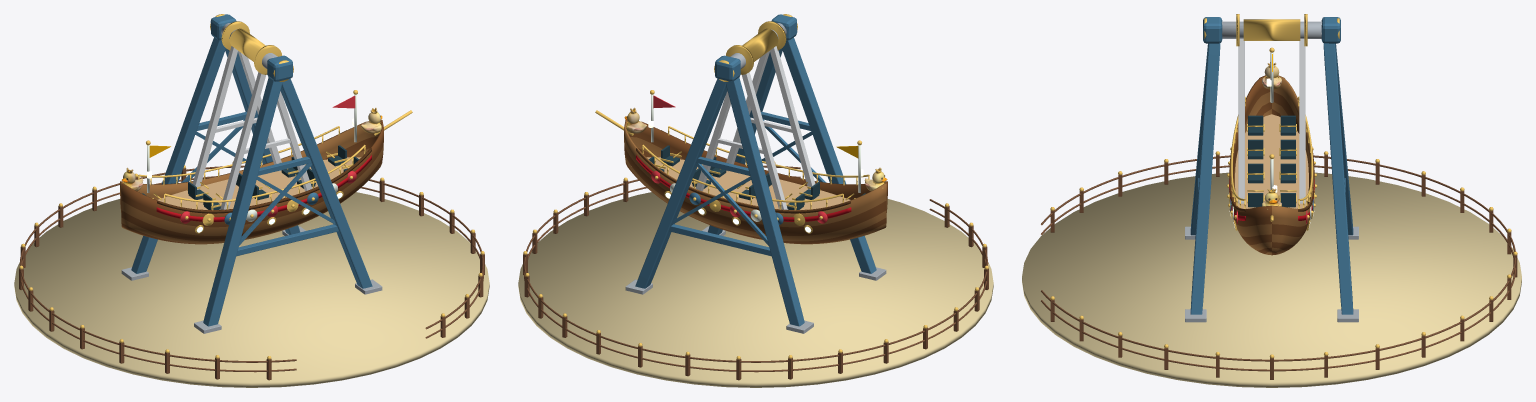
Rendered from duck_voyage.glb.
3 views of the same model, side by side, from view 1: azimuth 30°, elevation 25°; view 2: azimuth 150°, elevation 25°; view 3: azimuth 270°, elevation 25° (orthographic). The views are drawn at different scales.
Visible parts, largest first — view 1: base_toon_e9d8a6, base_toon_457b9d, swing_toon_9c6b3a_toon_7a4a24, base_toon_7f5539, swing_toon_e9ecef, swing_toon_ffd166, swing_toon_deb887, swing_toon_264653, base_toon_adb5bd, swing_toon_5e3a1c, swing_toon_c1121f, base_toon_ffd166 (+2 smaller); view 2: base_toon_e9d8a6, base_toon_457b9d, swing_toon_9c6b3a_toon_7a4a24, base_toon_7f5539, swing_toon_e9ecef, swing_toon_ffd166, swing_toon_deb887, swing_toon_264653, base_toon_adb5bd, swing_toon_5e3a1c, swing_toon_c1121f, base_toon_ffd166 (+2 smaller); view 3: base_toon_e9d8a6, base_toon_457b9d, base_toon_7f5539, swing_toon_9c6b3a_toon_7a4a24, swing_toon_ffd166, swing_toon_deb887, swing_toon_264653, swing_toon_e9ecef, base_toon_adb5bd, base_toon_ffd166.
Part boxes in pixels (x1=…): base_toon_e9d8a6: x1=14, y1=192, x2=489, y2=387; base_toon_457b9d: x1=131, y1=14, x2=372, y2=326; swing_toon_9c6b3a_toon_7a4a24: x1=120, y1=120, x2=383, y2=244; base_toon_7f5539: x1=19, y1=163, x2=484, y2=380; swing_toon_e9ecef: x1=192, y1=46, x2=312, y2=209; swing_toon_ffd166: x1=138, y1=21, x2=412, y2=233; swing_toon_deb887: x1=157, y1=157, x2=361, y2=209; swing_toon_264653: x1=142, y1=145, x2=358, y2=209; base_toon_adb5bd: x1=121, y1=23, x2=382, y2=333; swing_toon_5e3a1c: x1=143, y1=130, x2=371, y2=213; swing_toon_c1121f: x1=156, y1=155, x2=371, y2=221; base_toon_ffd166: x1=19, y1=14, x2=484, y2=359; base_toon_e9d8a6: x1=518, y1=192, x2=993, y2=387; base_toon_457b9d: x1=635, y1=14, x2=876, y2=326; swing_toon_9c6b3a_toon_7a4a24: x1=624, y1=120, x2=887, y2=244; base_toon_7f5539: x1=523, y1=163, x2=988, y2=380; swing_toon_e9ecef: x1=695, y1=46, x2=815, y2=209; swing_toon_ffd166: x1=595, y1=21, x2=869, y2=233; swing_toon_deb887: x1=646, y1=157, x2=850, y2=209; swing_toon_264653: x1=649, y1=145, x2=865, y2=209; base_toon_adb5bd: x1=625, y1=23, x2=886, y2=333; swing_toon_5e3a1c: x1=636, y1=130, x2=864, y2=213; swing_toon_c1121f: x1=636, y1=155, x2=851, y2=221; base_toon_ffd166: x1=523, y1=14, x2=988, y2=359; base_toon_e9d8a6: x1=1022, y1=172, x2=1521, y2=387; base_toon_457b9d: x1=1190, y1=17, x2=1353, y2=314; base_toon_7f5539: x1=1041, y1=155, x2=1517, y2=379; swing_toon_9c6b3a_toon_7a4a24: x1=1230, y1=75, x2=1313, y2=255; swing_toon_ffd166: x1=1226, y1=14, x2=1317, y2=230; swing_toon_deb887: x1=1235, y1=114, x2=1308, y2=208; swing_toon_264653: x1=1248, y1=115, x2=1295, y2=207; swing_toon_e9ecef: x1=1238, y1=38, x2=1305, y2=203; base_toon_adb5bd: x1=1185, y1=21, x2=1358, y2=322; base_toon_ffd166: x1=1050, y1=18, x2=1517, y2=358.
Bounding box in the file's own units: 23 × 13.64 × 23.
Materials: 19 (1 with a texture image).
